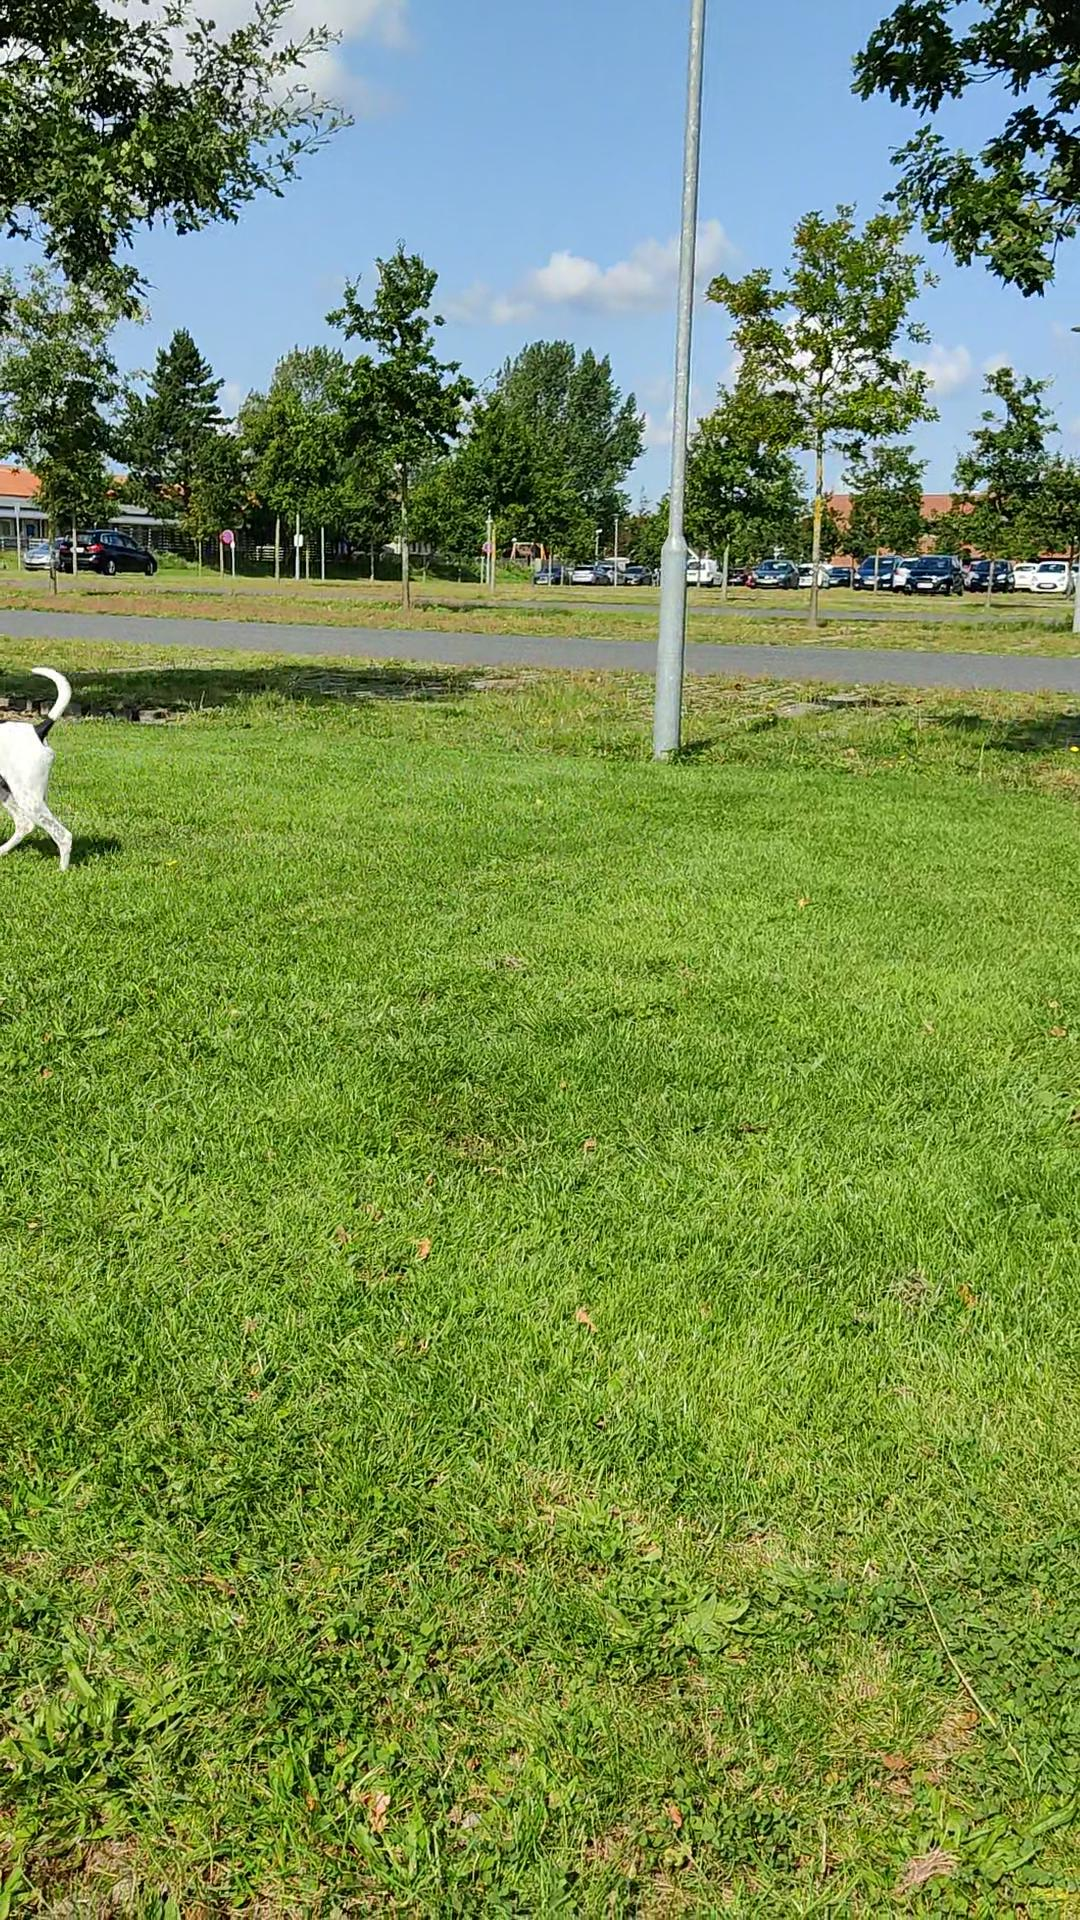Dog: (0, 646, 90, 872)
